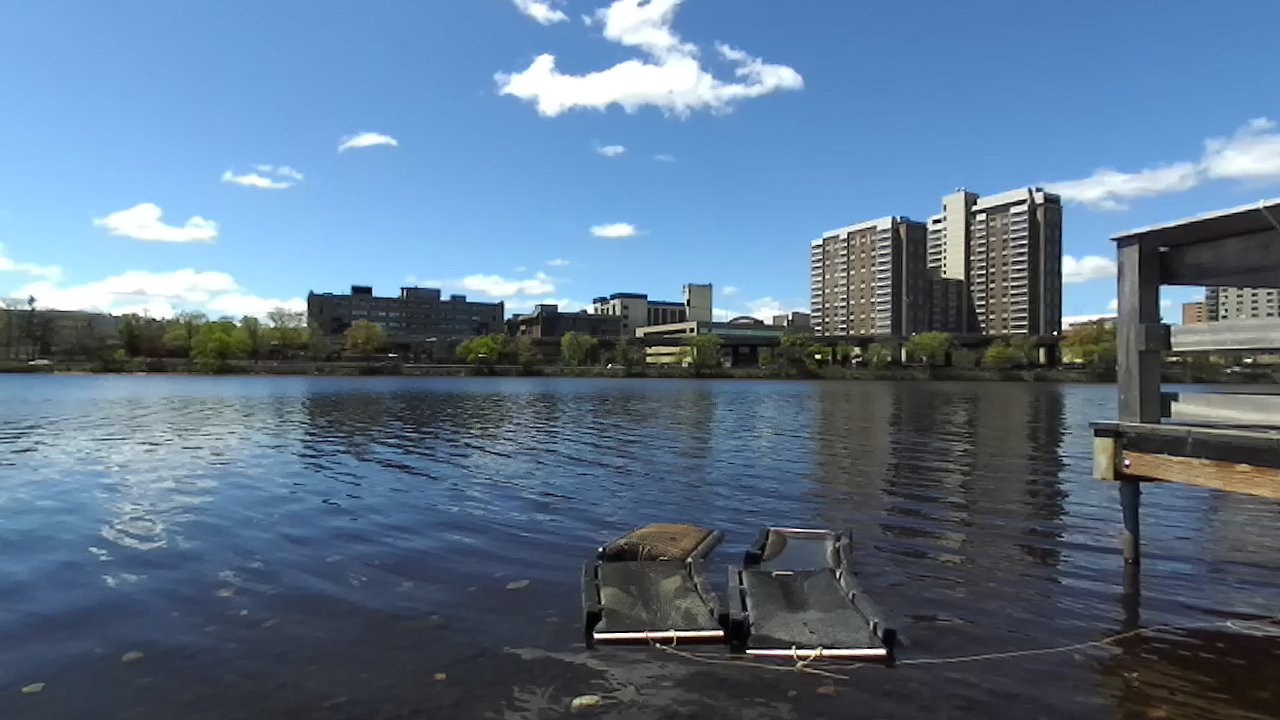bag: (726, 566, 897, 660), (580, 557, 726, 644), (596, 520, 724, 560), (742, 524, 853, 564)
